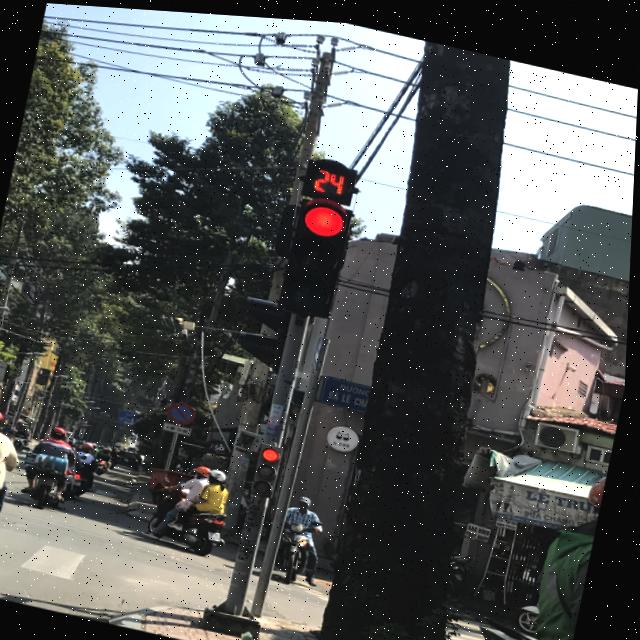Red: (275, 187, 363, 322), (253, 432, 292, 499)
